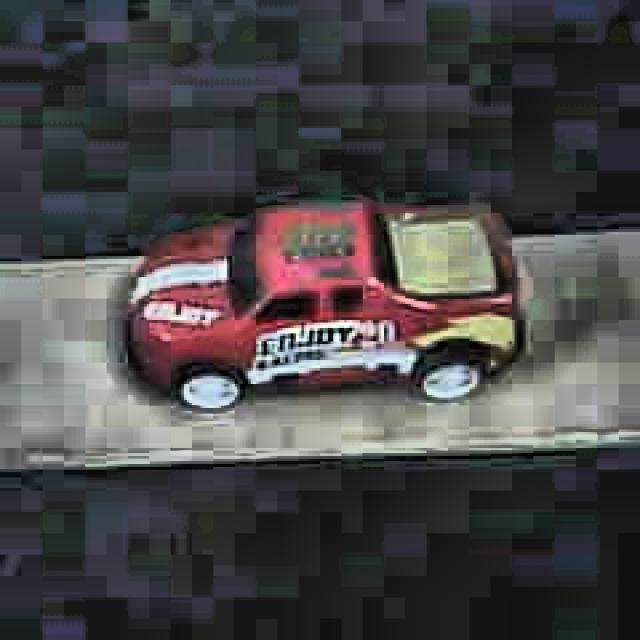car: (123, 196, 526, 415)
